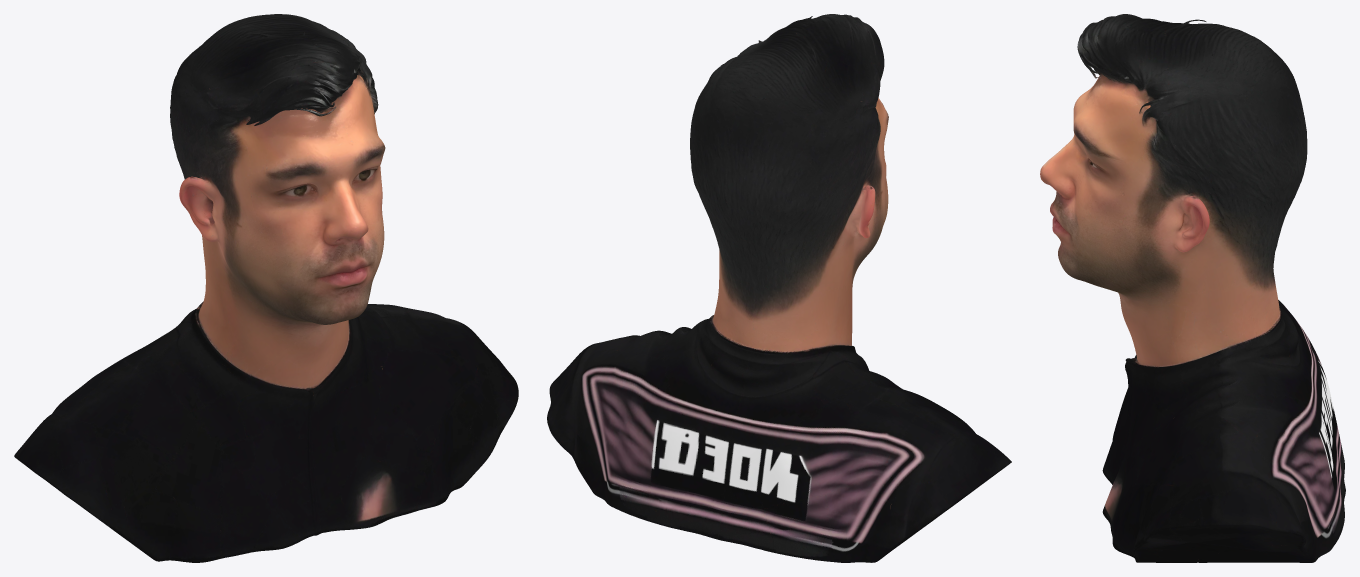
File: guillermolam-avatar.glb
3 renders of one model, left to right at view 1: azimuth 30°, elevation 25°; view 2: azimuth 150°, elevation 25°; view 3: azimuth 270°, elevation 25°, orthographic. The views are drawn at different scales.
Size of the model in its own units: 1.9 by 1.9 by 1.13.
1 material, 1 textured.
